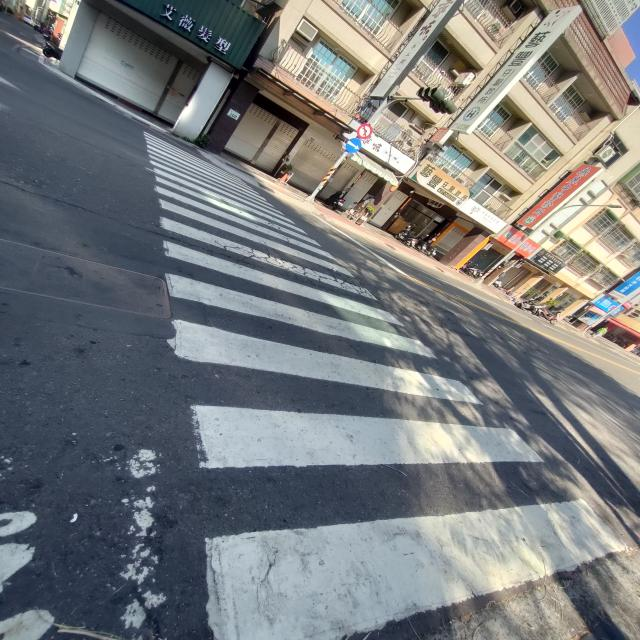zebra crossing: (148, 132, 635, 640)
